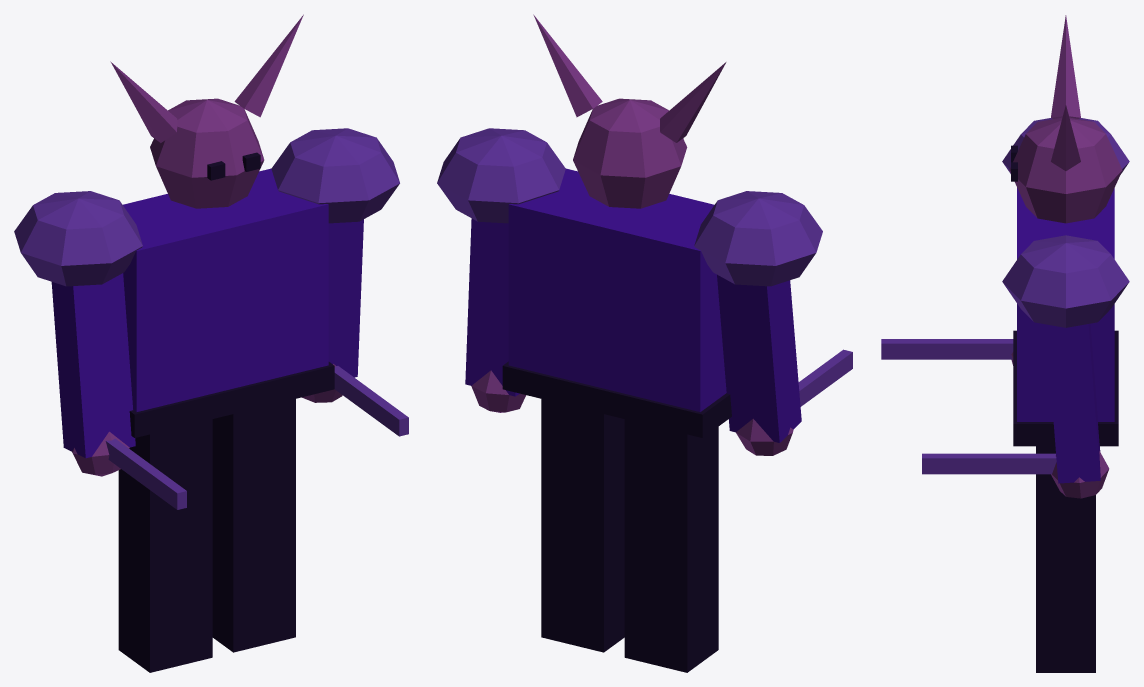
Rendered from SM_Champion_9025_Nyx.glb.
The picture shows the model from 3 angles, left to right: view 1: azimuth 30°, elevation 25°; view 2: azimuth 150°, elevation 25°; view 3: azimuth 270°, elevation 25°; orthographic projection. The views are drawn at different scales.
Parts seen in each view (by area): view 1: SM_Champion_9025_Nyx; view 2: SM_Champion_9025_Nyx; view 3: SM_Champion_9025_Nyx.
Boxes of the visible parts, <box> form: SM_Champion_9025_Nyx: <box>14,14,408,672</box>; SM_Champion_9025_Nyx: <box>437,14,852,672</box>; SM_Champion_9025_Nyx: <box>881,15,1129,672</box>.
Bounding box in the file's own units: 1.24 × 1.93 × 0.7509.
